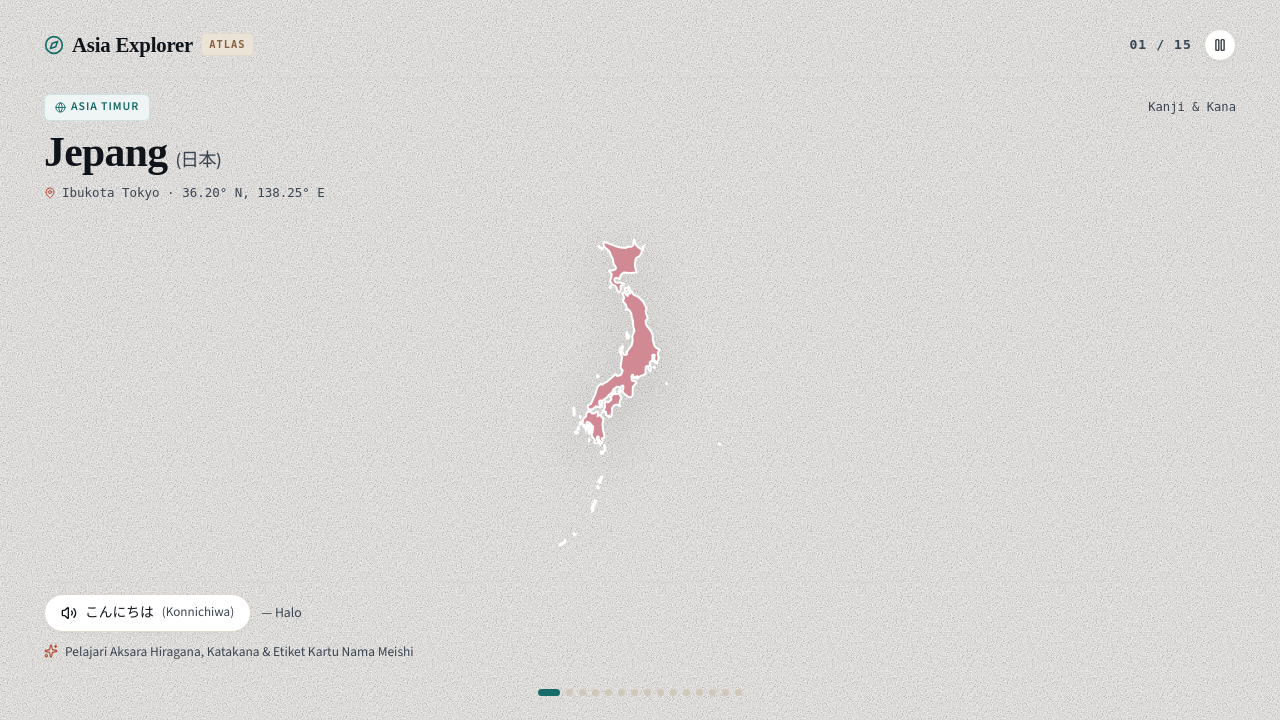
Test case: AuthInteractiveMap & AuthPage Integration › switches country when clicking an interactive country pill
Click the tab named "Indonesia" at x=582, y=692, box [579, 689, 586, 696]
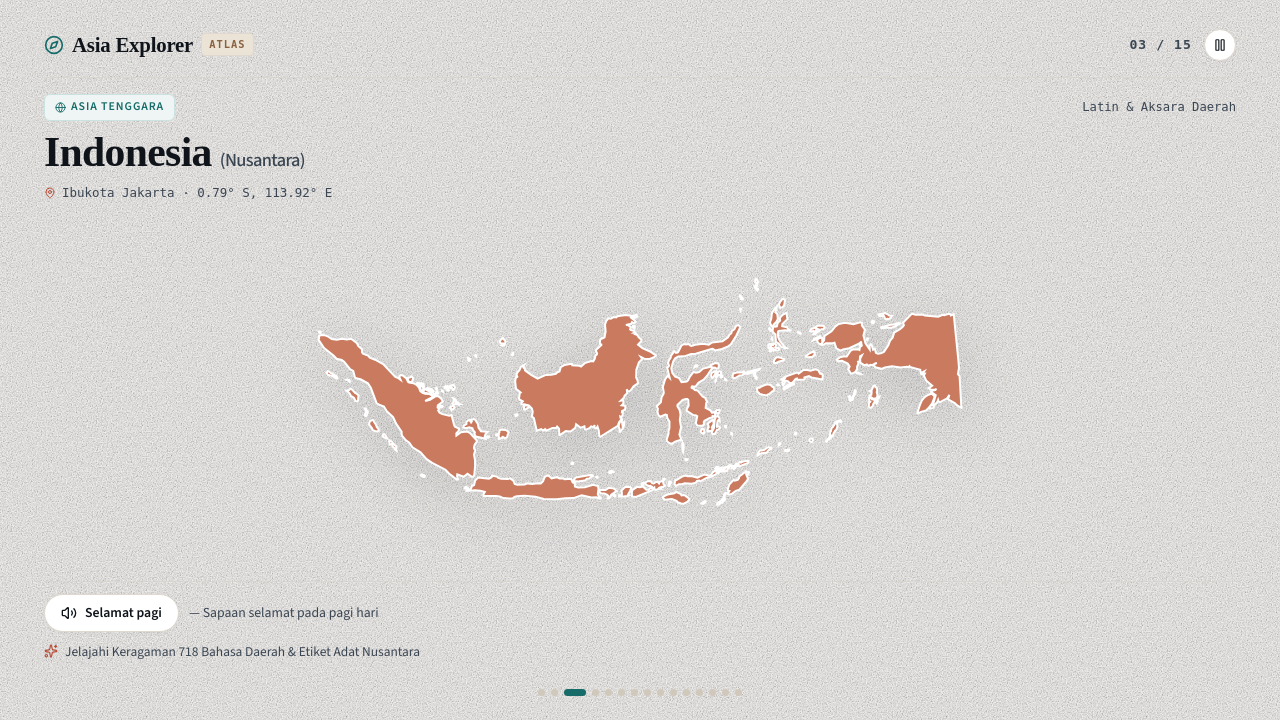
Check: the heading "Indonesia(Nusantara)" is shown, box [44, 129, 305, 175]
Check: the text "(Nusantara)" is shown, box [220, 147, 305, 173]
Check: the text "Selamat pagi" is shown, box [85, 602, 162, 624]
